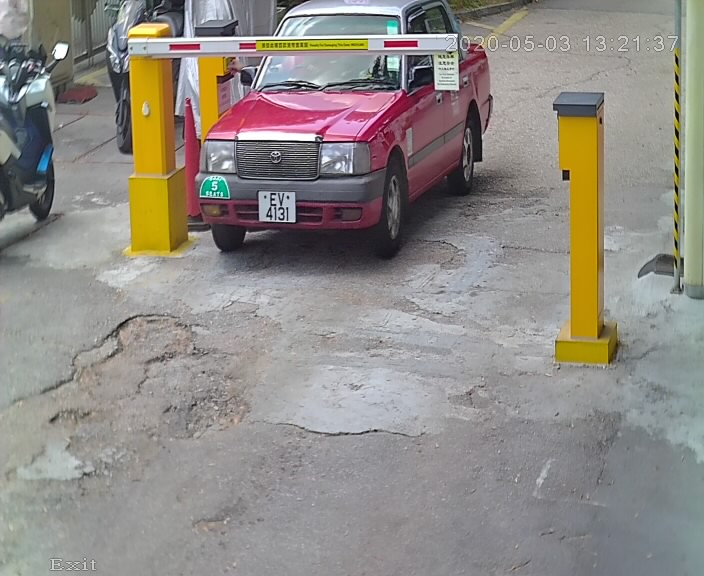taxi: (172, 2, 511, 295)
taxi_mark: (199, 170, 238, 206)
